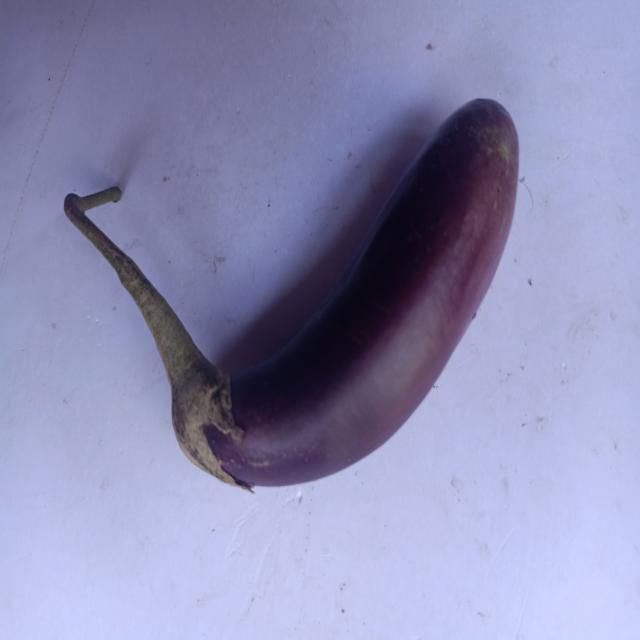Brinjal: (37, 67, 586, 517)
